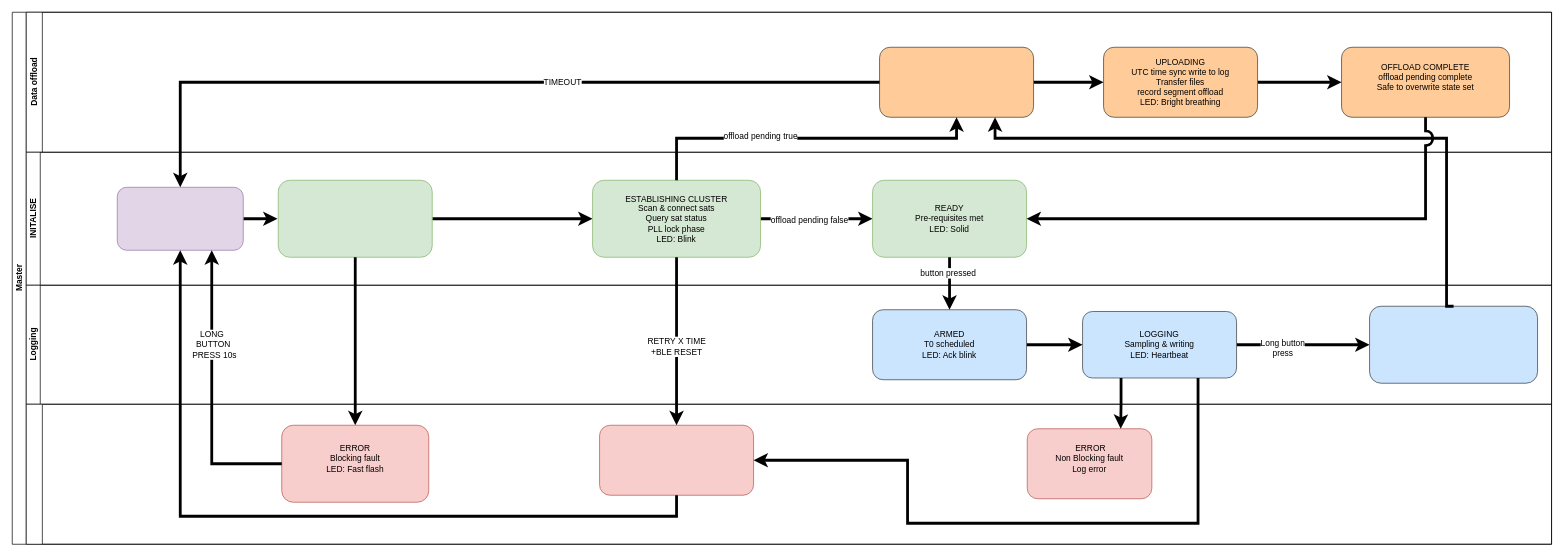
Some shapes in this 1564 by 557 pixel diagram are drawn without their labels. Here are the shapes that lost their labels. From the top down, the box of each, then its label:
(879, 47, 1034, 117): OFFLOAD PENDING No WiFi LED: Breathing dim x time (config)n
(117, 187, 243, 250): SLEEP LED: Off Button: Wake
(278, 180, 432, 257): BOOT Init HW Check storage Check pending upload
(1369, 306, 1538, 383): STOPPING Close files Write manifest WIFI ready state LED: ack Flash
(599, 425, 754, 495): ERROR Blocking fault Log error
(26, 404, 1552, 544): Errors
